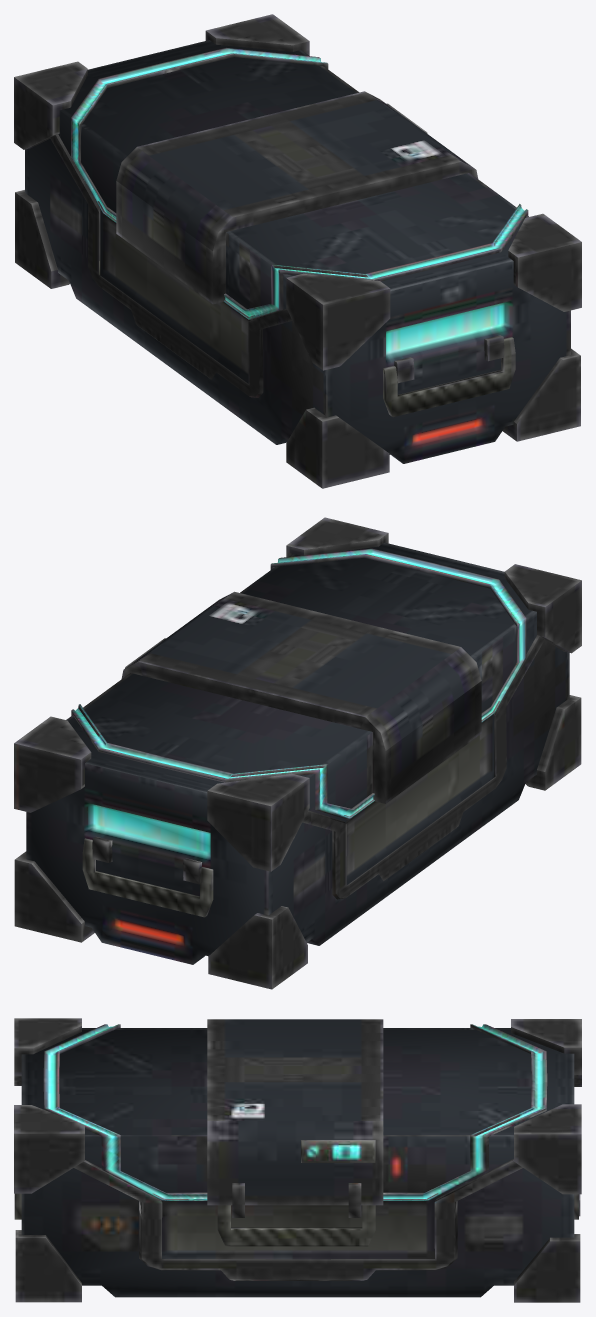
The model's file is case.gltf.
3 views of the same model, one above another, from view 1: azimuth 30°, elevation 25°; view 2: azimuth 150°, elevation 25°; view 3: azimuth 270°, elevation 25° (orthographic). The views are drawn at different scales.
Visible parts, largest first — view 1: _Lowpoly, metal_Lowpoly, green_Lowpoly; view 2: _Lowpoly, metal_Lowpoly, green_Lowpoly; view 3: _Lowpoly, metal_Lowpoly, green_Lowpoly.
Part boxes in pixels (box(x1,y1,x2,y2)): _Lowpoly: box(25, 40, 570, 463); metal_Lowpoly: box(14, 14, 581, 488); green_Lowpoly: box(383, 103, 515, 417); _Lowpoly: box(26, 542, 569, 964); metal_Lowpoly: box(14, 517, 581, 989); green_Lowpoly: box(82, 638, 213, 917); _Lowpoly: box(21, 1019, 574, 1297); metal_Lowpoly: box(14, 1018, 581, 1302); green_Lowpoly: box(14, 1140, 578, 1246).
Size of the model in its own units: 1.03 by 0.6784 by 2.
1 material, 1 textured.
